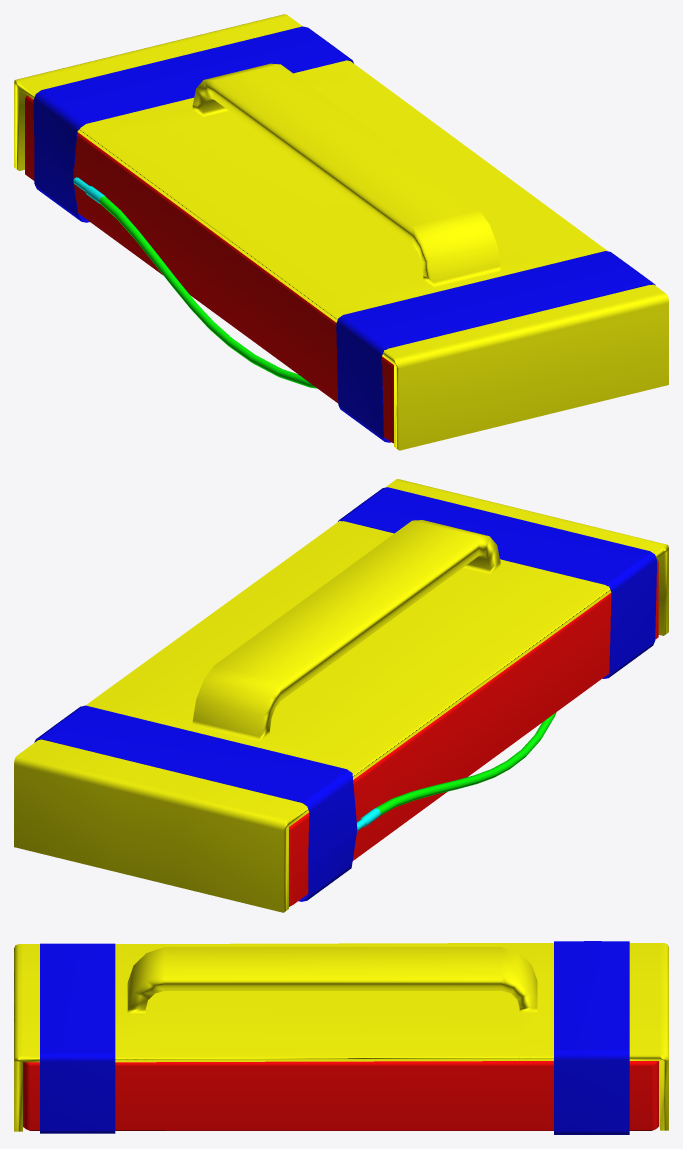
3 views of the same model, one above another, from view 1: azimuth 30°, elevation 25°; view 2: azimuth 150°, elevation 25°; view 3: azimuth 270°, elevation 25° (orthographic). The views are drawn at different scales.
Parts seen in each view (by area): view 1: C4_low; view 2: C4_low; view 3: C4_low.
Boxes of the visible parts, left/top/right/bottom form: C4_low: left=14, top=14, right=668, bottom=450; C4_low: left=14, top=479, right=668, bottom=912; C4_low: left=14, top=941, right=668, bottom=1134.
Bounding box in the file's own units: 43.09 × 22.42 × 101.
